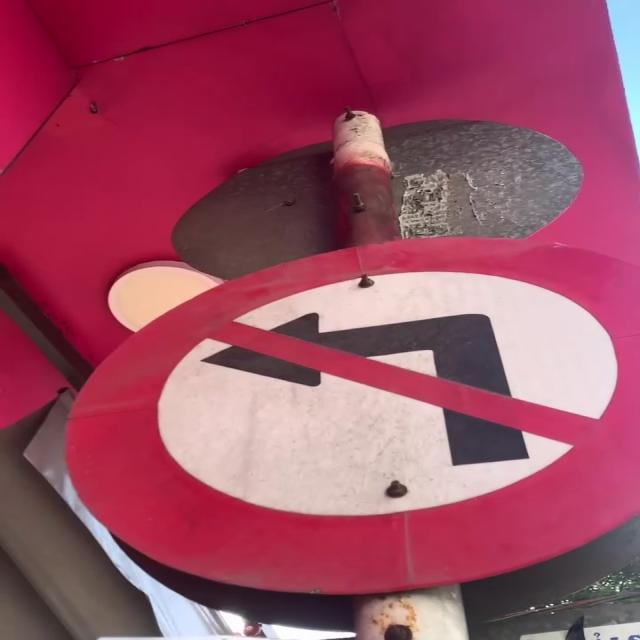Cam_Re_Trai: (65, 240, 634, 594)
